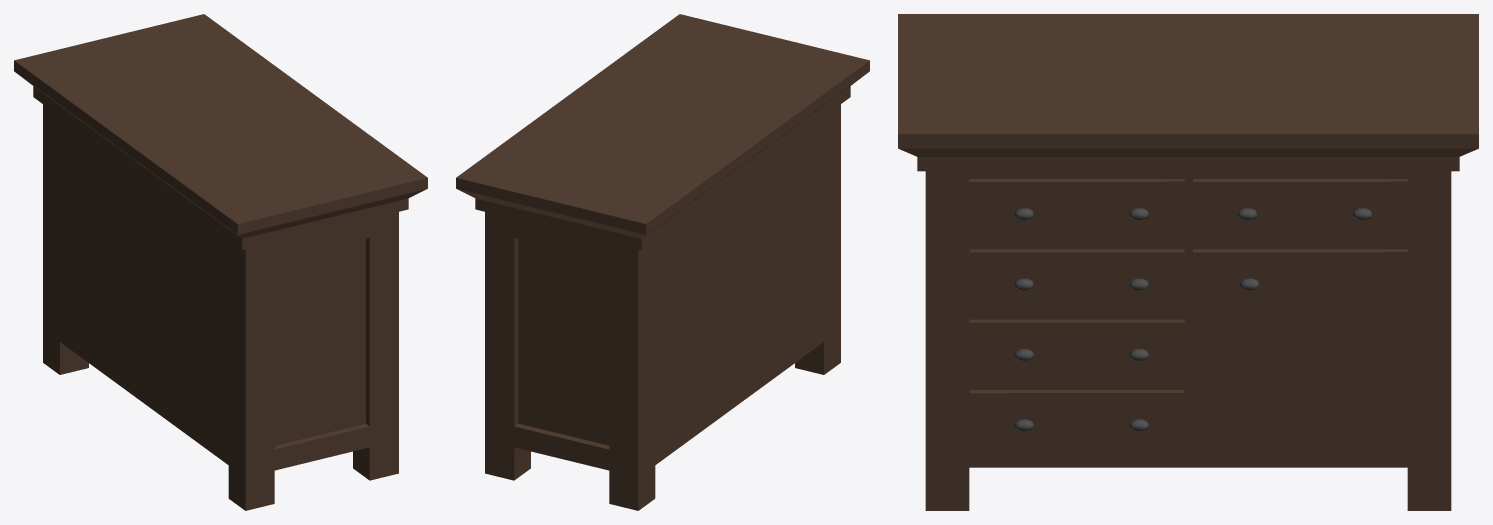
Rendered from S_Forniture_03.fbx.
3 views of the same model, side by side, from view 1: azimuth 30°, elevation 25°; view 2: azimuth 150°, elevation 25°; view 3: azimuth 270°, elevation 25° (orthographic). The views are drawn at different scales.
Visible parts, largest first — view 1: S_Forniture_03; view 2: S_Forniture_03; view 3: S_Forniture_03.
Part boxes in pixels (bbox=[...]): S_Forniture_03: bbox=[14, 14, 427, 510]; S_Forniture_03: bbox=[456, 14, 869, 510]; S_Forniture_03: bbox=[898, 14, 1478, 510].
Size of the model in its own units: 86.77 by 130 by 177.
